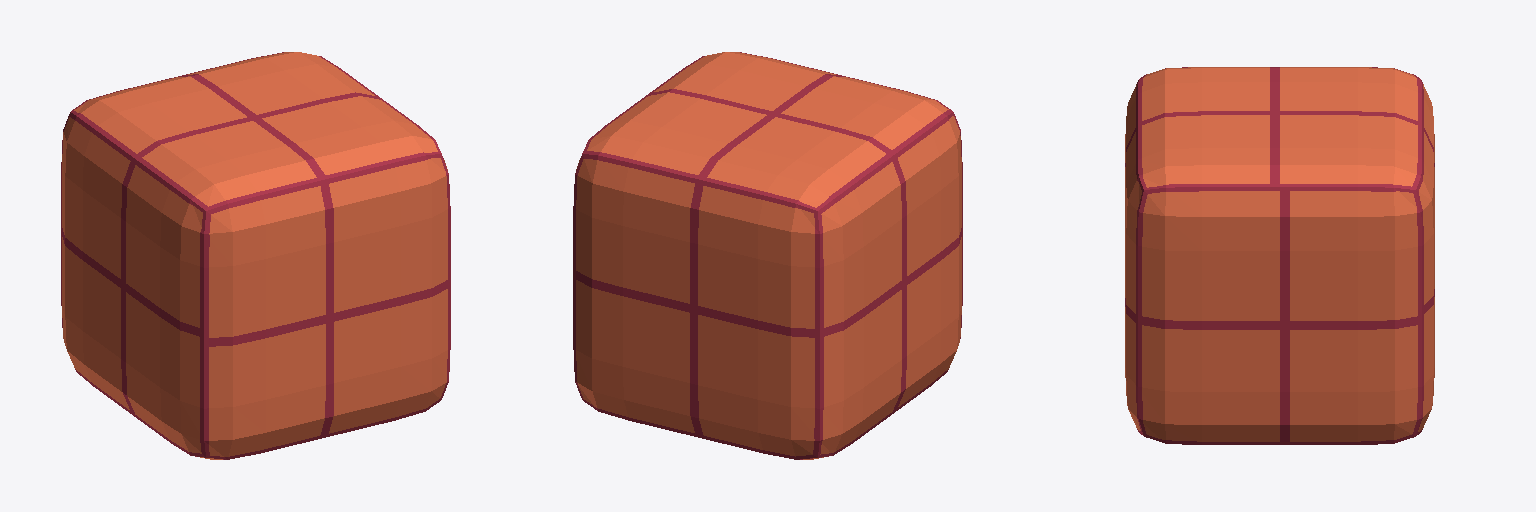
The picture shows the model from 3 angles: view 1: azimuth 30°, elevation 25°; view 2: azimuth 150°, elevation 25°; view 3: azimuth 270°, elevation 25°; orthographic projection.
Visible parts, largest first — view 1: Cube.002_Cube.003; view 2: Cube.002_Cube.003; view 3: Cube.002_Cube.003.
Boxes of the visible parts, x1=… form: Cube.002_Cube.003: x1=61, y1=52, x2=450, y2=459; Cube.002_Cube.003: x1=573, y1=52, x2=962, y2=459; Cube.002_Cube.003: x1=1125, y1=67, x2=1434, y2=444.
Size of the model in its own units: 2 by 2 by 2.
Materials: 1 (1 with a texture image).